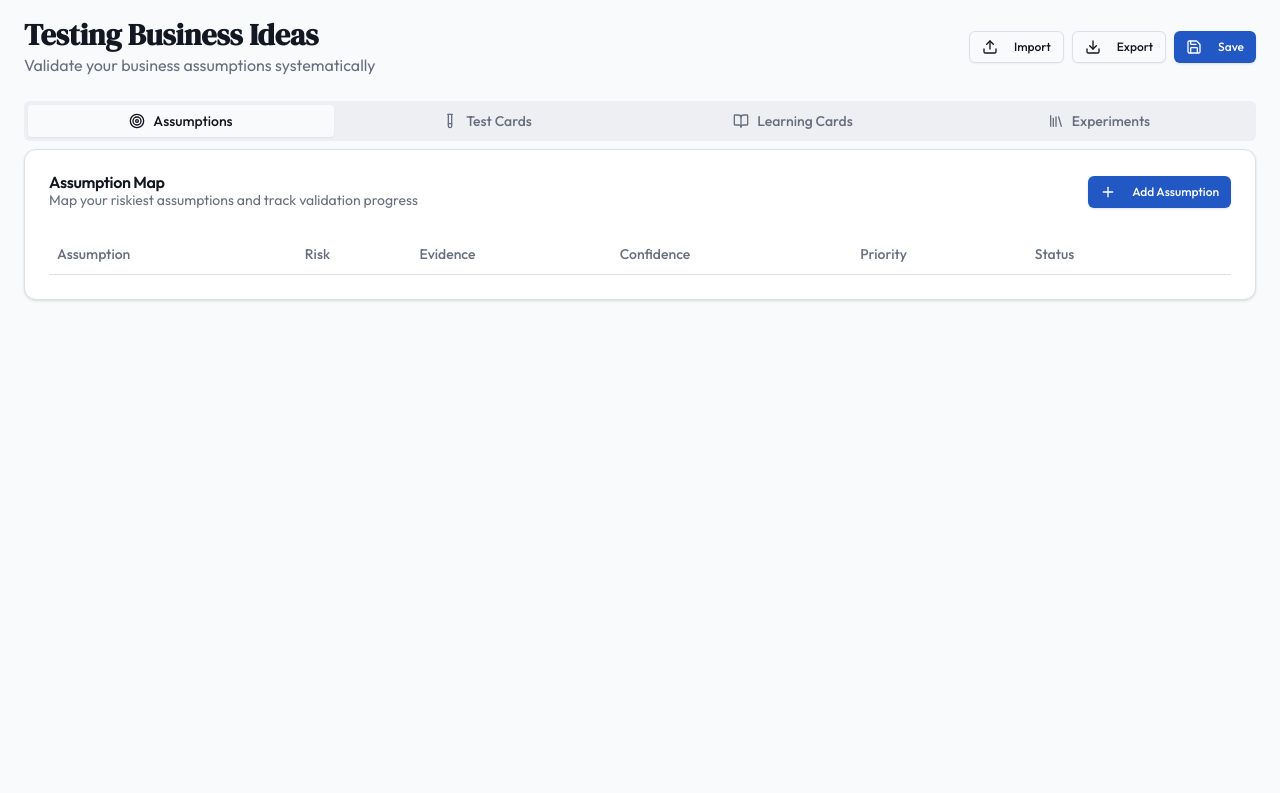
Test case: TestingBusinessIdeasCanvas › Learning Cards Management › adds new learning card
The width and height of the screenshot is (1280, 793).
Click the tab "Learning Cards": (793, 121) 640,105 -> 946,137
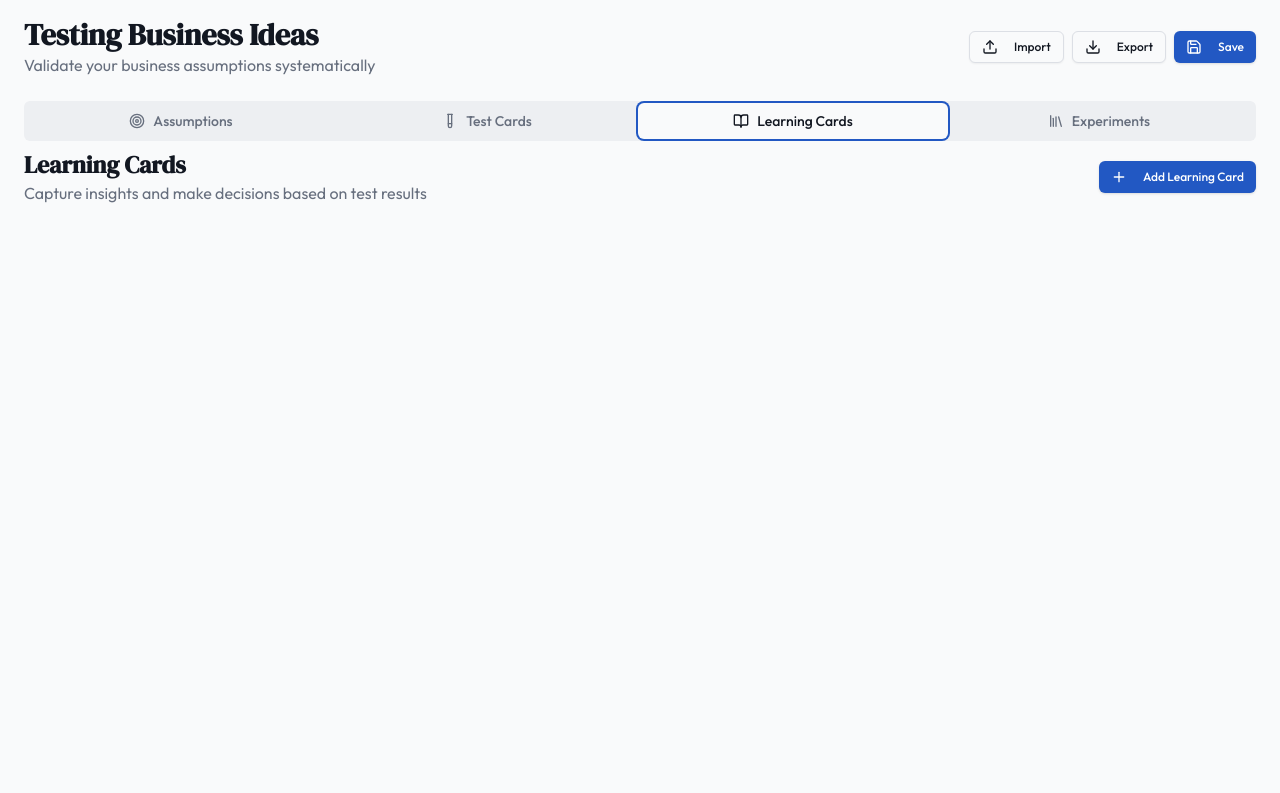
Click the button "Add Learning Card": (1177, 177) 1099,161 -> 1256,193
(page scrolled)
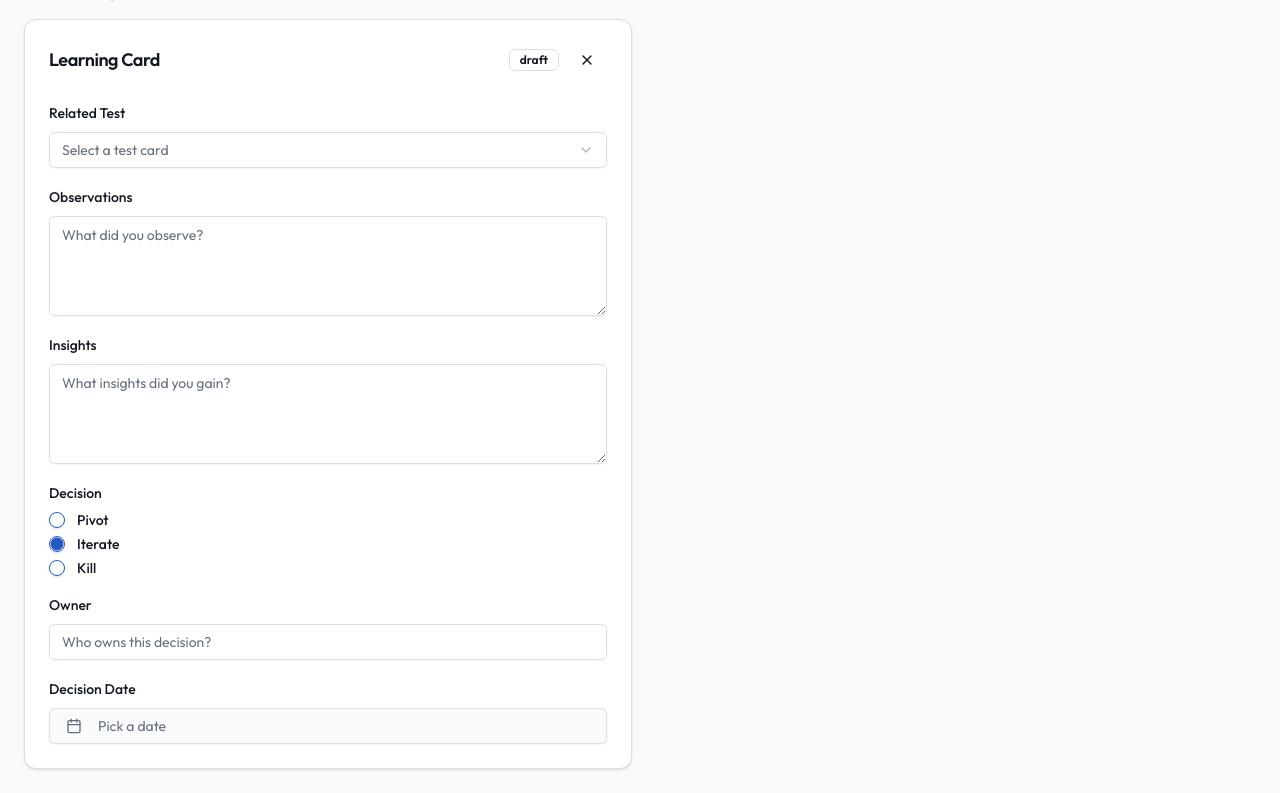
Result: the text "Learning Card" is shown at 49,46 -> 160,74
Result: the dropdown named "related test" is shown at 49,132 -> 607,168
Result: the text box labelled "Observations" is shown at 49,216 -> 607,316
